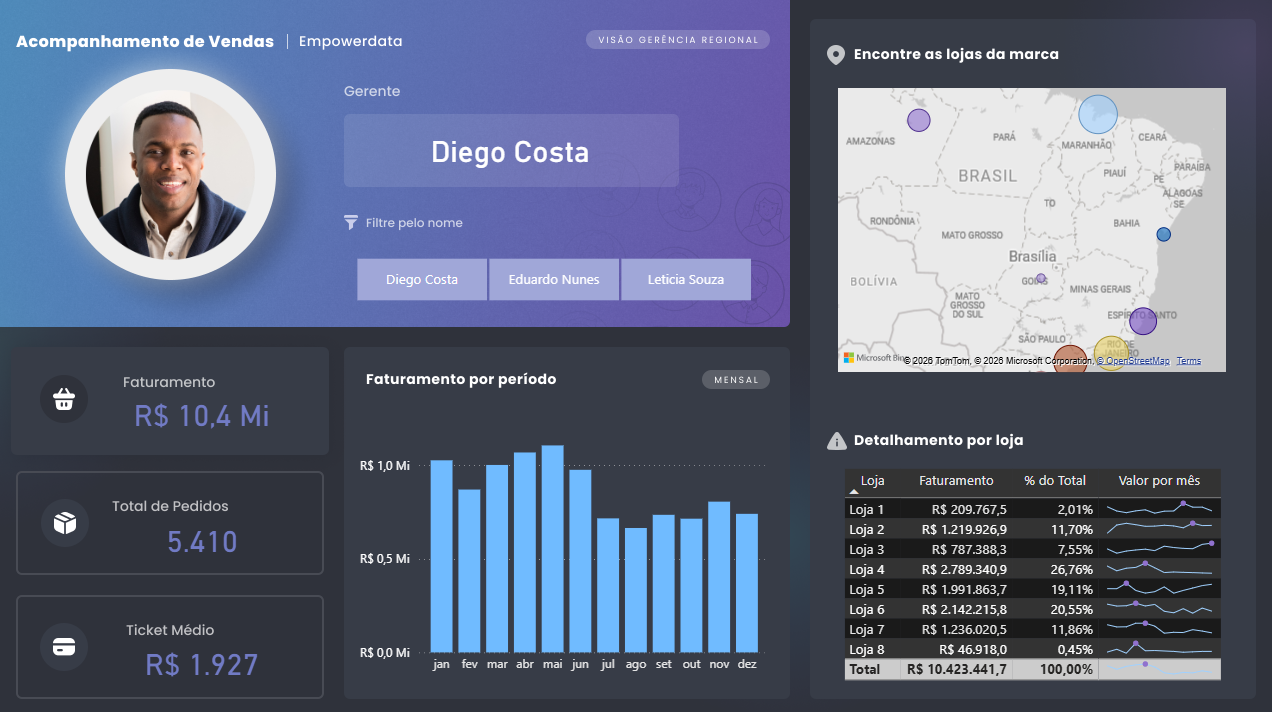

The page's visual inventory and layout, read from the dashboard file:
{"tool":"powerbi","page":{"name":"Página 1","canvas":[1280,720],"ordinal":0},"visuals":[{"type":"card","fields":{"Values":["pedidos.faturamento"]},"box":[102.3,369.8,207,89.5],"z":0},{"type":"card","fields":{"Values":["pedidos.qt_pedidos"]},"box":[102.3,496.5,207,89.5],"z":1000},{"type":"card","fields":{"Values":["pedidos.tickt_medio"]},"box":[102.3,618.6,207,89.5],"z":2000},{"type":"slicer","fields":{"Values":["lojas.Gerente"]},"box":[334.9,252.3,444.2,55.8],"z":3000},{"type":"card","fields":{"Values":["Min(lojas.Gerente)"]},"box":[359.3,114,311.6,74.4],"z":4000},{"type":"clusteredColumnChart","fields":{"Category":["calendario.mes"],"Y":["pedidos.faturamento"]},"box":[359.3,415.1,419.8,268.6],"z":5000},{"type":"tableEx","fields":{"Values":["lojas.nome_loja","pedidos.faturamento","Divide(pedidos.faturamento, ScopedEval(pedidos.faturamento, []))","SparklineData(pedidos.faturamento_[calendario.mes])"]},"box":[843,465.1,397.7,240.7],"z":6000},{"type":"map","fields":{"Category":["lojas.nome_estado"],"Size":["pedidos.faturamento"],"X":["Avg(lojas.longitude)"],"Y":["Avg(lojas.latitude)"]},"box":[837.8,83.3,397.8,332.2],"z":7000},{"type":"image","box":[59.3,86,231.4,179.1],"z":8000}]}

Visuals, with their boxes in screenshot pixels (x1, y1, x2, y2), scaled from the page's 1280x720 canvas onto the 1272x712 screenshot:
card - pedidos.faturamento: Rect(102, 366, 307, 454)
card - pedidos.qt_pedidos: Rect(102, 491, 307, 579)
card - pedidos.tickt_medio: Rect(102, 612, 307, 700)
slicer - lojas.Gerente: Rect(333, 249, 774, 305)
card - Min(lojas.Gerente): Rect(357, 113, 667, 186)
clusteredColumnChart - calendario.mes x pedidos.faturamento: Rect(357, 410, 774, 676)
tableEx - lojas.nome_loja x pedidos.faturamento: Rect(838, 460, 1233, 698)
map - lojas.nome_estado x pedidos.faturamento: Rect(833, 82, 1228, 411)
image: Rect(59, 85, 289, 262)
